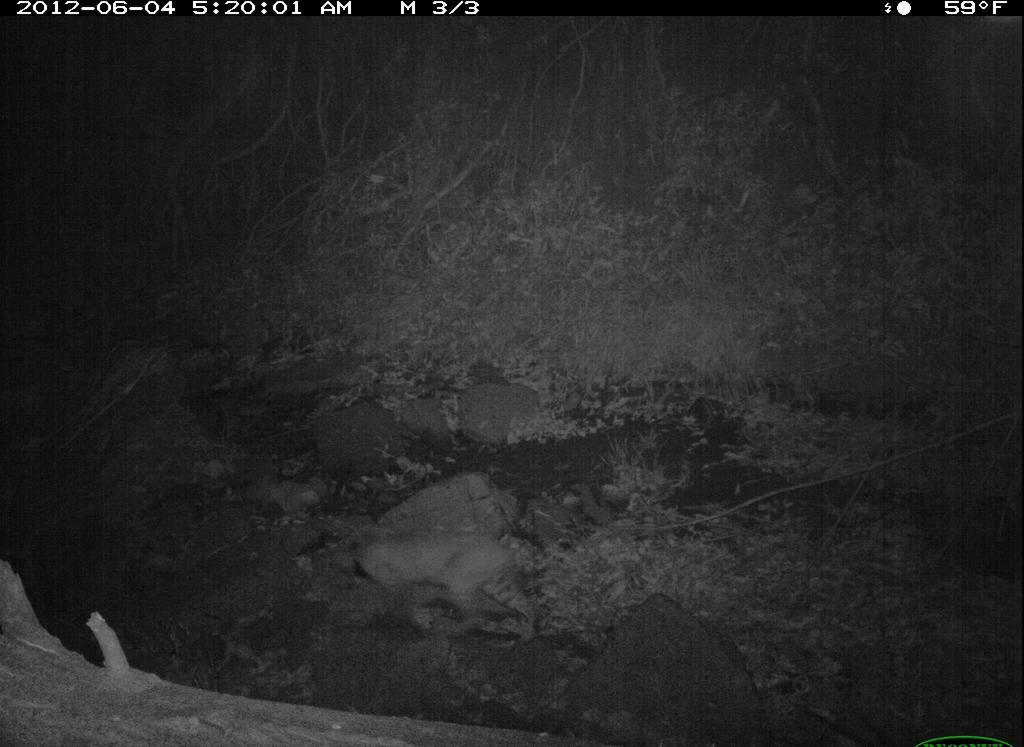bobcat: (299, 510, 552, 634)
